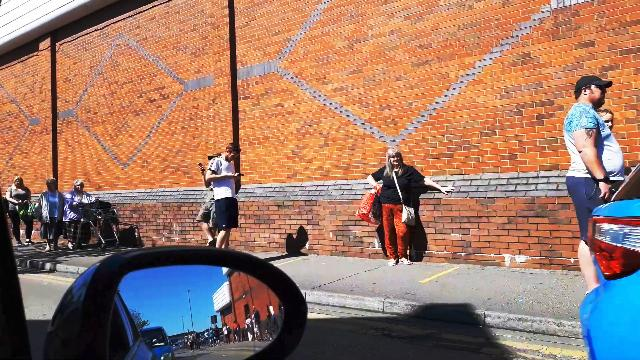berdiri: (562, 67, 630, 306), (368, 148, 450, 266), (206, 138, 244, 253)
